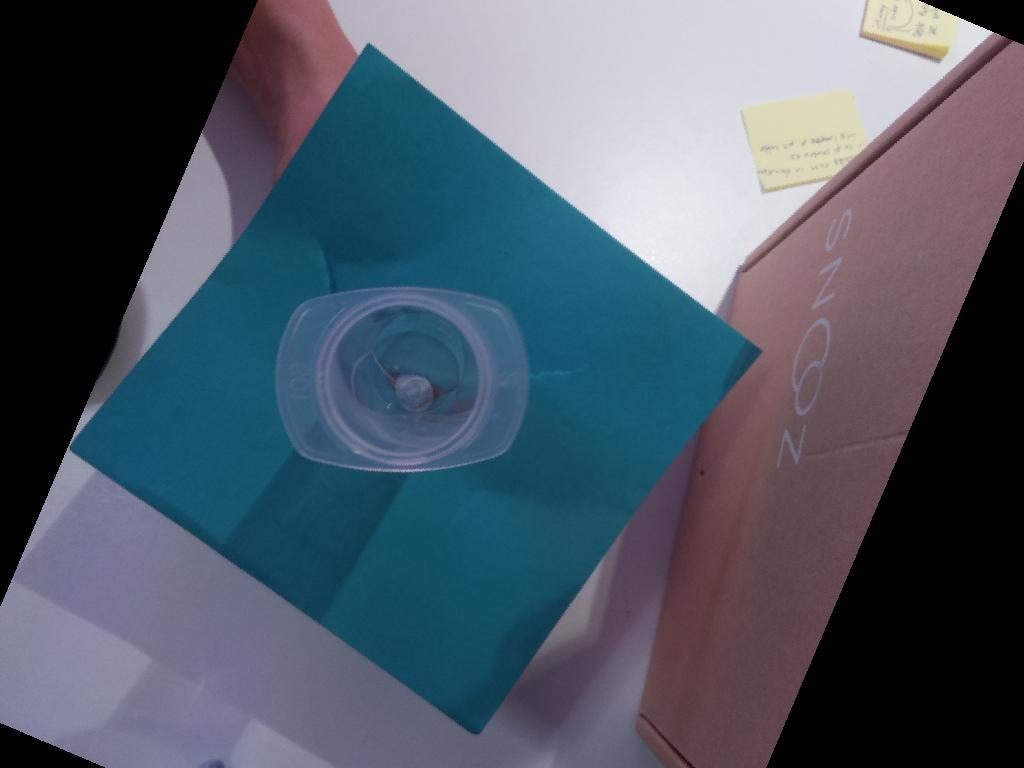clean: (271, 285, 529, 473)
